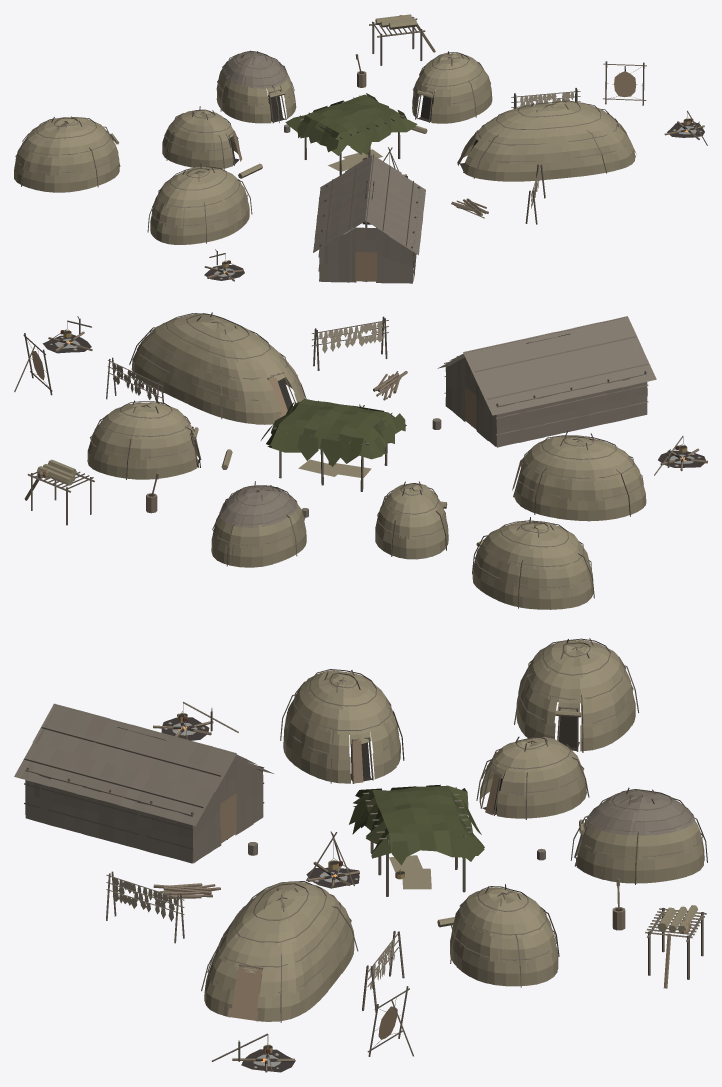
Rendered from potawatomi_camp_1812_south_west__camp_1812.glb.
3 views of the same model, one above another, from view 1: azimuth 30°, elevation 25°; view 2: azimuth 150°, elevation 25°; view 3: azimuth 270°, elevation 25° (orthographic). The views are drawn at different scales.
Parts seen in each view (by area): view 1: potawatomi_camp_1812_south_west__camp_1812; view 2: potawatomi_camp_1812_south_west__camp_1812; view 3: potawatomi_camp_1812_south_west__camp_1812.
Boxes of the visible parts, x1,y1,x2,y2 form: potawatomi_camp_1812_south_west__camp_1812: [14, 14, 707, 283]; potawatomi_camp_1812_south_west__camp_1812: [14, 312, 707, 609]; potawatomi_camp_1812_south_west__camp_1812: [14, 638, 707, 1072].
Size of the model in its own units: 31.83 by 3.45 by 24.14.
